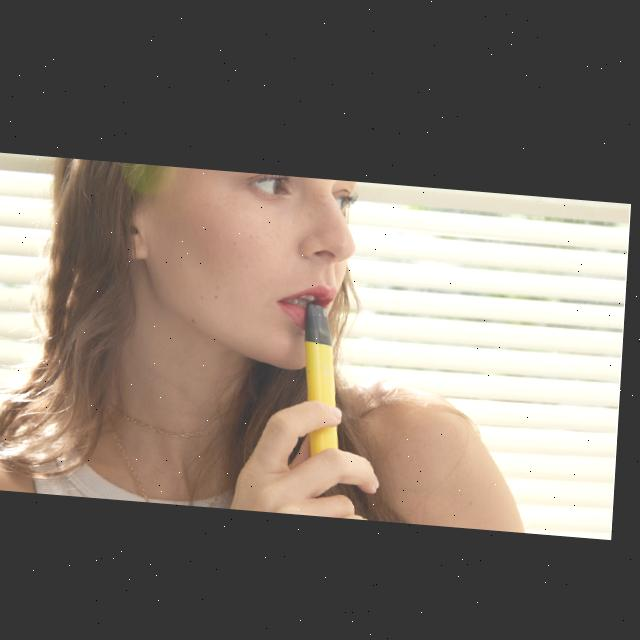vape: (301, 298, 350, 454)
